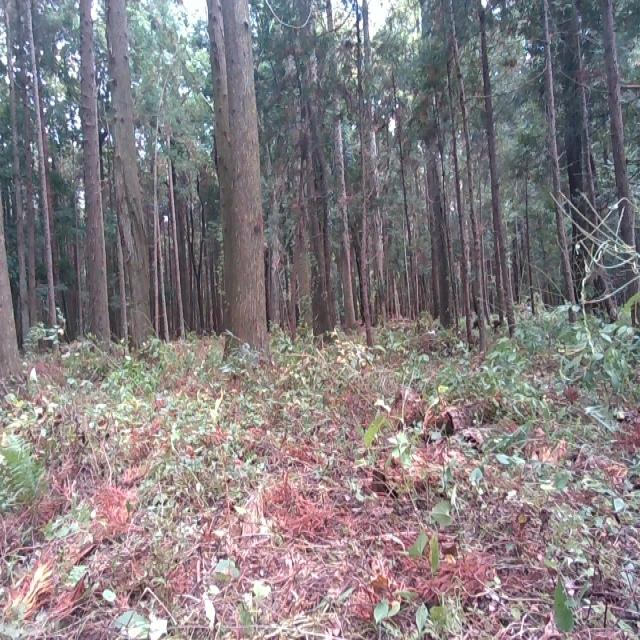bush: (482, 217, 640, 512)
tree: (204, 0, 268, 370), (75, 0, 112, 349), (107, 0, 141, 348)
